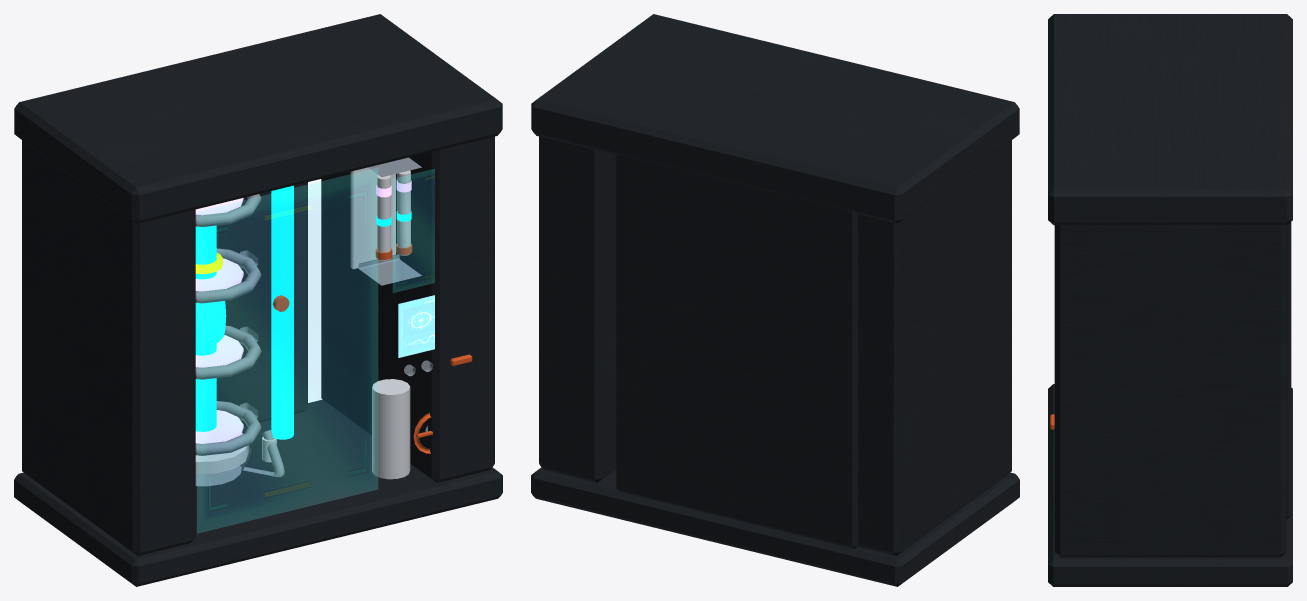
The model's file is reactor_core_r1_04.glb.
3 renders of one model, left to right at view 1: azimuth 30°, elevation 25°; view 2: azimuth 150°, elevation 25°; view 3: azimuth 270°, elevation 25°, orthographic.
Visible parts, largest first — view 1: Reactor04_TwinCoreGunmetalFrame, Reactor04_TwinTranslucentShields, Reactor04_WhiteModeratorRodsAndDewars, Reactor04_TwinCyanPlasmaColumns, Reactor04_TwinCoilsAndBusArch, Reactor04_UVFieldCoils, Reactor04_OLEDTelemetryPillar, Reactor04_SignalOrangeSCRAMPillar; view 2: Reactor04_TwinCoreGunmetalFrame; view 3: Reactor04_TwinCoreGunmetalFrame.
Boxes of the visible parts, <box> form: Reactor04_TwinCoreGunmetalFrame: <box>14,14,502,586</box>; Reactor04_TwinTranslucentShields: <box>197,168,434,532</box>; Reactor04_WhiteModeratorRodsAndDewars: <box>195,167,410,479</box>; Reactor04_TwinCyanPlasmaColumns: <box>195,185,411,439</box>; Reactor04_TwinCoilsAndBusArch: <box>195,157,432,486</box>; Reactor04_UVFieldCoils: <box>195,180,411,443</box>; Reactor04_OLEDTelemetryPillar: <box>398,295,434,357</box>; Reactor04_SignalOrangeSCRAMPillar: <box>273,243,472,453</box>; Reactor04_TwinCoreGunmetalFrame: <box>531,14,1019,586</box>; Reactor04_TwinCoreGunmetalFrame: <box>1048,14,1292,586</box>.
Bounding box in the file's own units: 2.58 × 2.65 × 1.48.
Materials: 9 (9 with a texture image).
